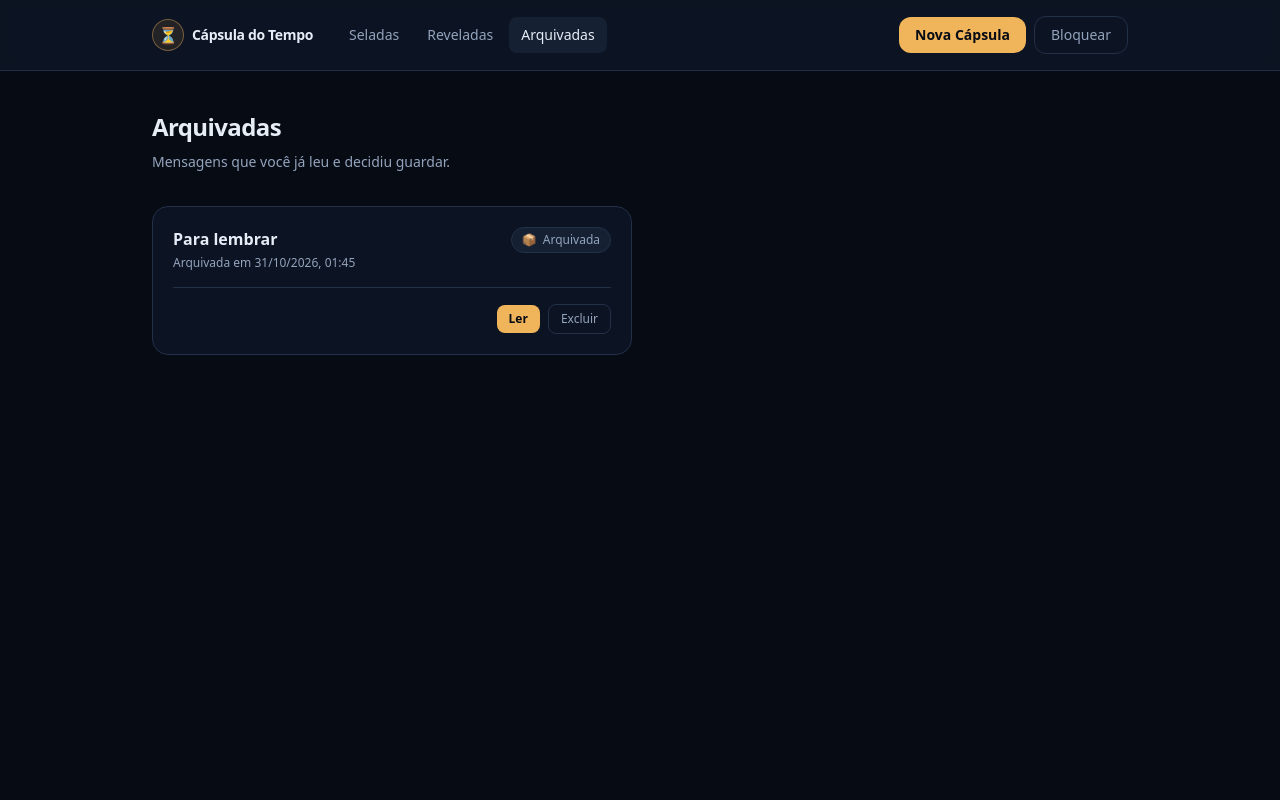
Test: listas de reveladas e arquivadas › exclui uma cápsula arquivada somente após a confirmação
expect the link "Para lembrar" is shown: met, box [173, 228, 278, 250]
Click the button "Excluir" at [579, 319], box [548, 304, 611, 334]
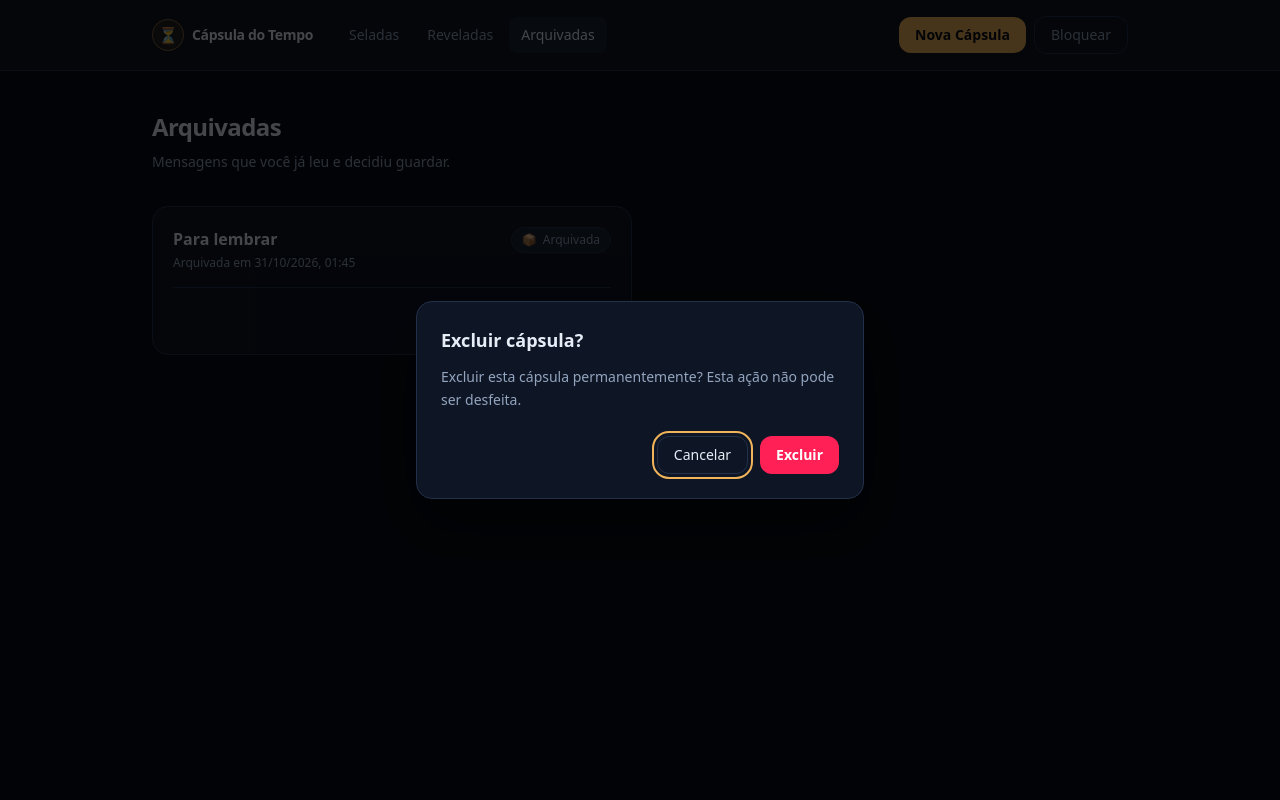
expect the text "Excluir esta cápsula permanentemente? Esta ação não pode ser desfeita." is shown: met, box [441, 366, 839, 412]
Click the button "Excluir" at [800, 455], box [760, 436, 839, 474]
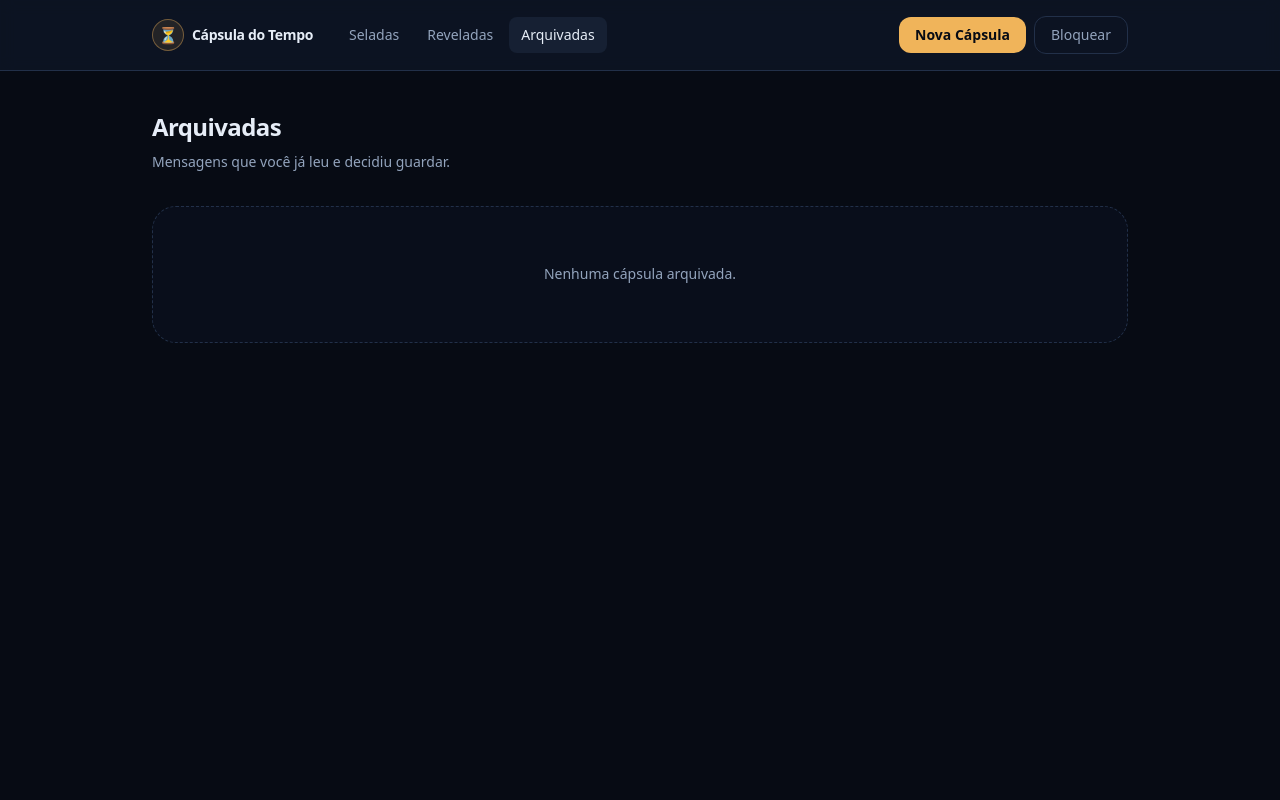
expect the text "Nenhuma cápsula arquivada." is shown: met, box [544, 264, 736, 283]
